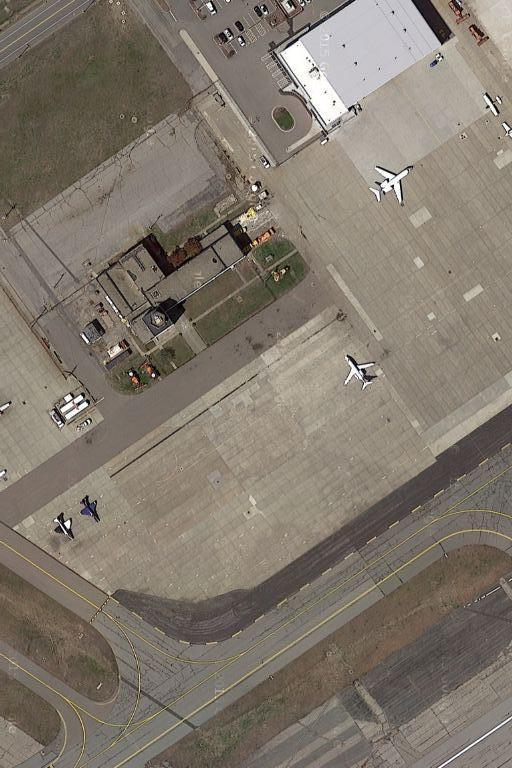plane: (365, 159, 419, 209), (341, 353, 383, 391), (76, 491, 104, 525), (52, 512, 79, 544)
